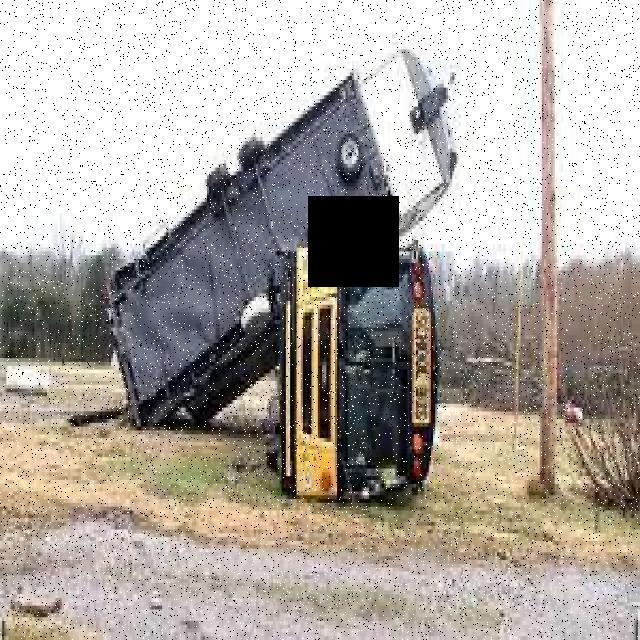accident: (100, 53, 465, 507)
